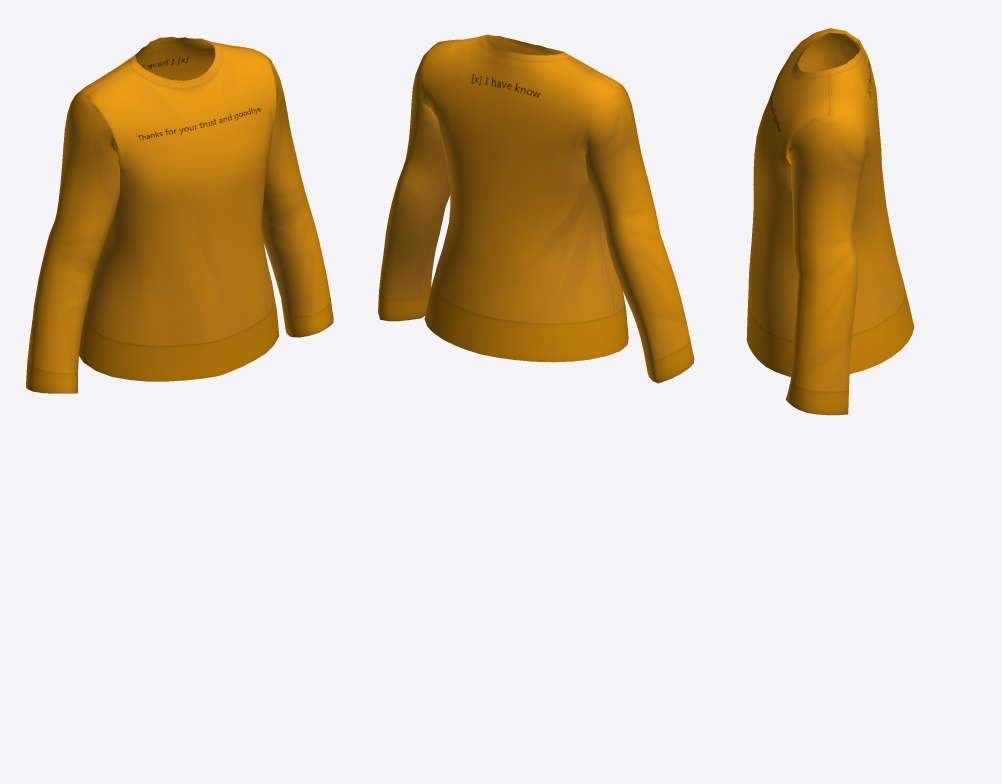
The model's file is longsleeve_apose.glb.
3 views of the same model, side by side, from view 1: azimuth 30°, elevation 25°; view 2: azimuth 150°, elevation 25°; view 3: azimuth 270°, elevation 25° (orthographic).
Visible parts, largest first — view 1: longsleeve_apose; view 2: longsleeve_apose; view 3: longsleeve_apose.
Part boxes in pixels (left/top/right/bottom): longsleeve_apose: left=26, top=36, right=333, bottom=393; longsleeve_apose: left=378, top=34, right=694, bottom=383; longsleeve_apose: left=746, top=28, right=914, bottom=415.
Bounding box in the file's own units: 0.9064 × 1.99 × 0.688.
1 material, 1 textured.
